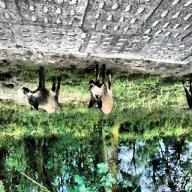boar: (21, 67, 61, 114), (88, 63, 113, 116)
